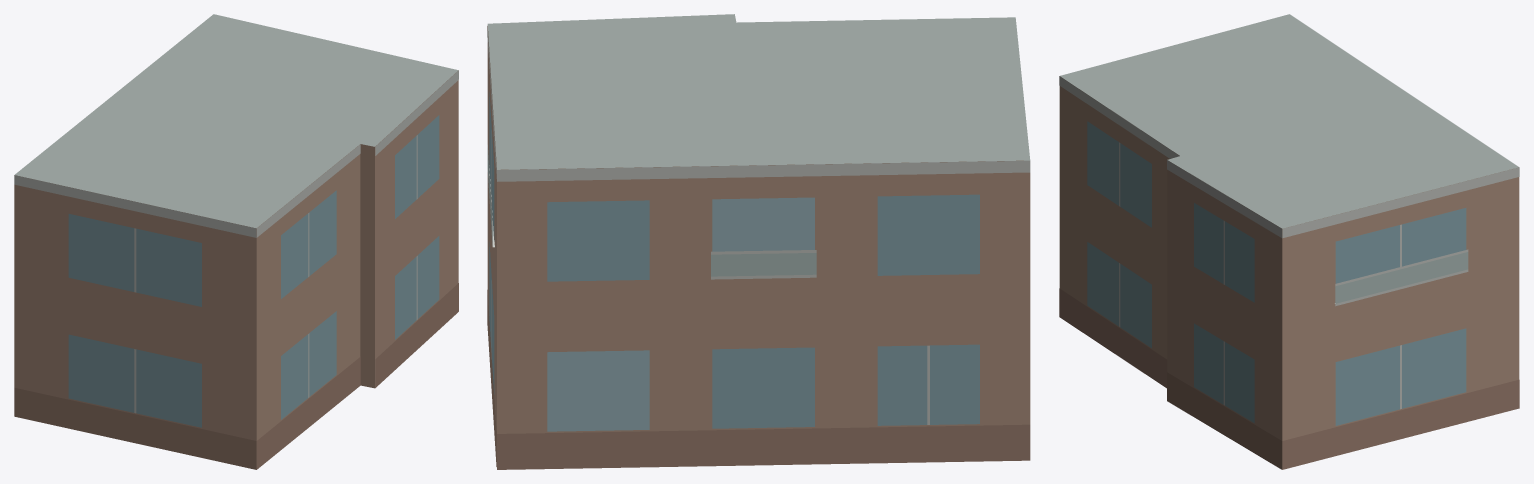
Rendered from survey-upis-32582548.glb.
The picture shows the model from 3 angles, left to right: view 1: azimuth 30°, elevation 25°; view 2: azimuth 150°, elevation 25°; view 3: azimuth 270°, elevation 25°; orthographic projection. The views are drawn at different scales.
Visible parts, largest first — view 1: survey-upis-32582548.tmp; view 2: survey-upis-32582548.tmp; view 3: survey-upis-32582548.tmp.
Boxes of the visible parts, x1=… form: survey-upis-32582548.tmp: x1=14, y1=14, x2=458, y2=469; survey-upis-32582548.tmp: x1=487, y1=14, x2=1030, y2=469; survey-upis-32582548.tmp: x1=1059, y1=14, x2=1519, y2=469.
Bounding box in the file's own units: 11.66 × 6.1 × 10.55.
